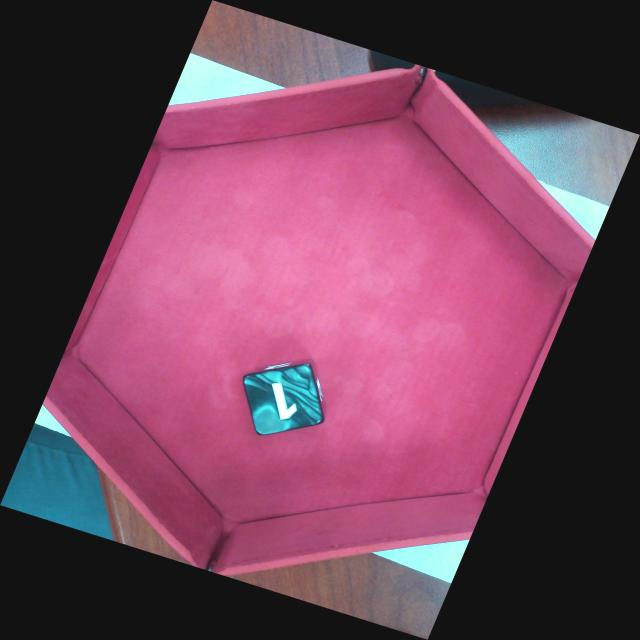dice: (244, 363, 324, 435)
